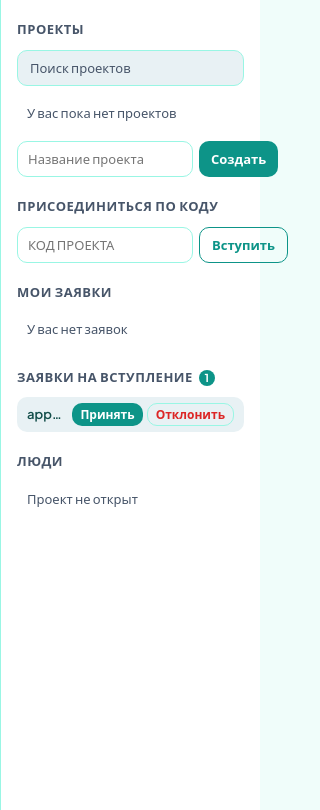
Sidebar › owner can reject a pending request
Check: the text "applicant@example.com" is shown, box [27,405,64,424]
Click the button "Отклонить" at (190, 414), box [147,403,234,426]
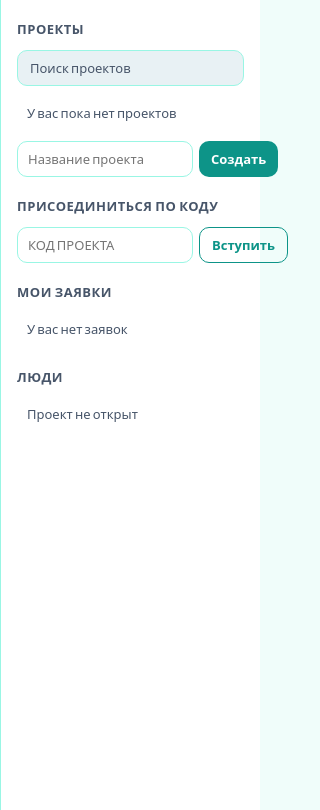
Check: the text "applicant@example.com" is gone
